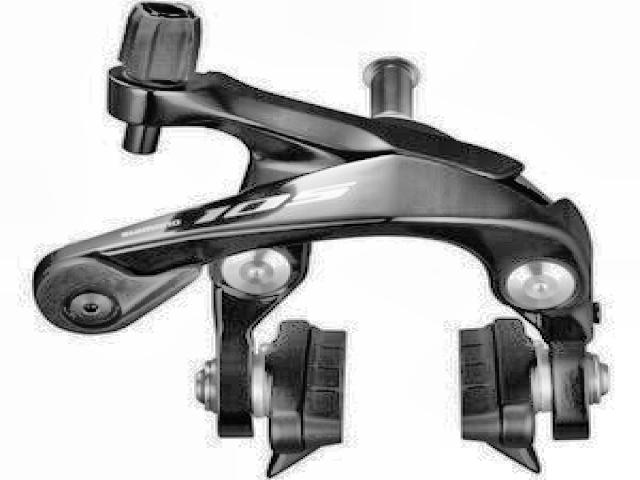rim_brake: (31, 3, 613, 472)
